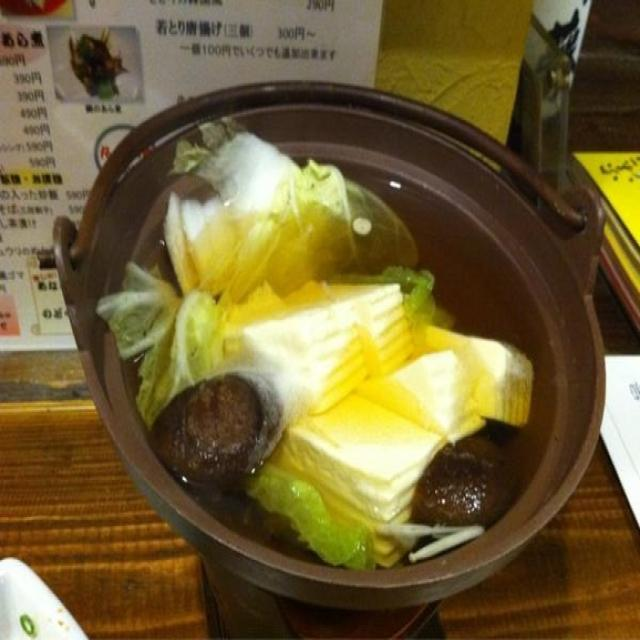豆腐料理: (75, 88, 578, 602)
